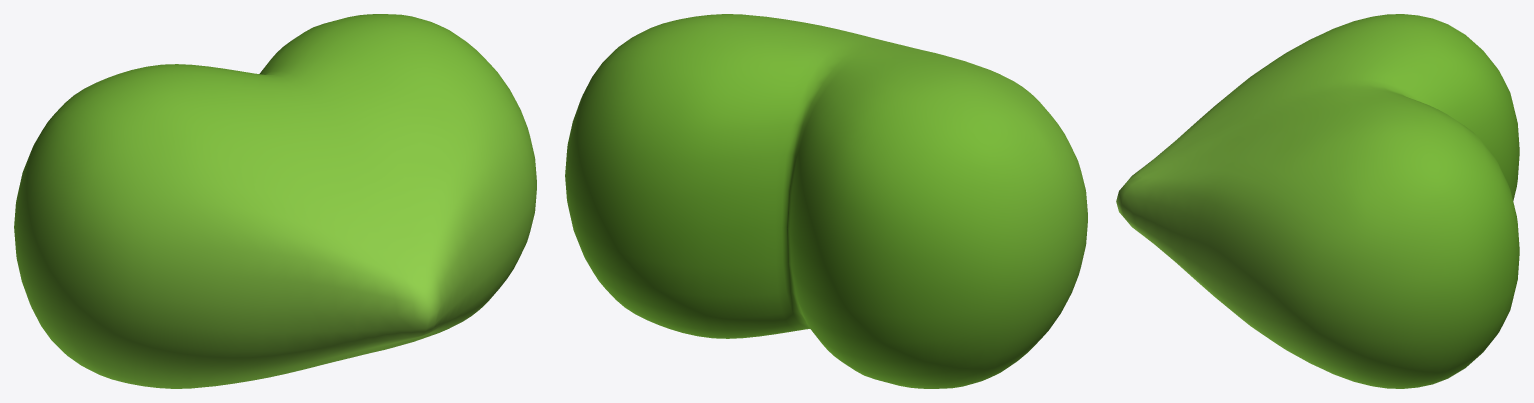
Rendered from m_Heart_Green.fbx.
3 renders of one model, left to right at view 1: azimuth 30°, elevation 25°; view 2: azimuth 150°, elevation 25°; view 3: azimuth 270°, elevation 25°, orthographic. The views are drawn at different scales.
Visible parts, largest first — view 1: Cube; view 2: Cube; view 3: Cube.
Part boxes in pixels (<box>): Cube: <box>14,14,536,388</box>; Cube: <box>565,14,1087,388</box>; Cube: <box>1116,14,1519,388</box>.
Bounding box in the file's own units: 14.39 × 8.45 × 12.05.
Materials: 1 (1 with a texture image).
